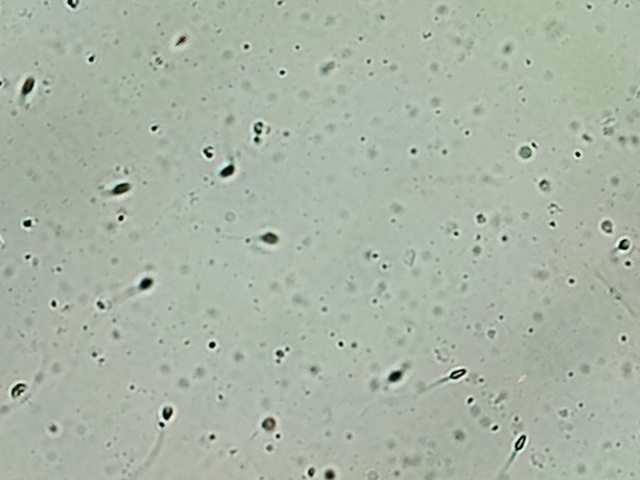sperm: (100, 373, 160, 430), (218, 195, 260, 237), (92, 250, 134, 290), (412, 341, 450, 377), (80, 154, 116, 190), (586, 219, 618, 249), (370, 344, 400, 372), (200, 139, 228, 166), (456, 0, 496, 1)
